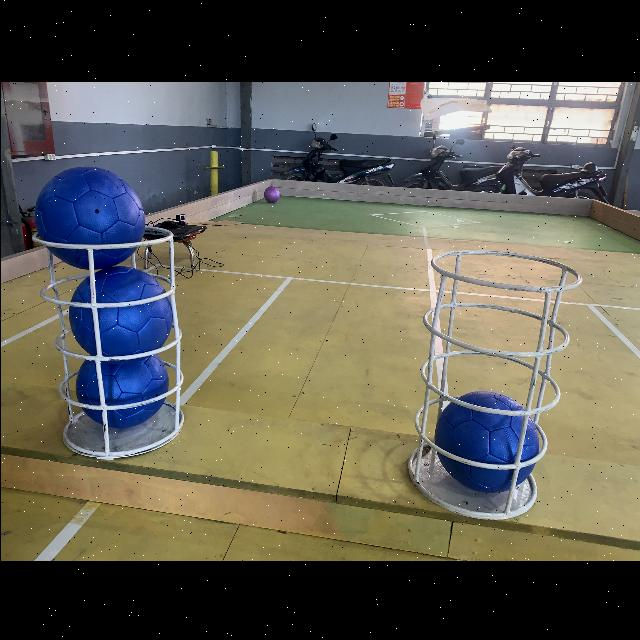B: (34, 164, 144, 266), (434, 389, 538, 491), (69, 265, 171, 355), (74, 352, 164, 431)
